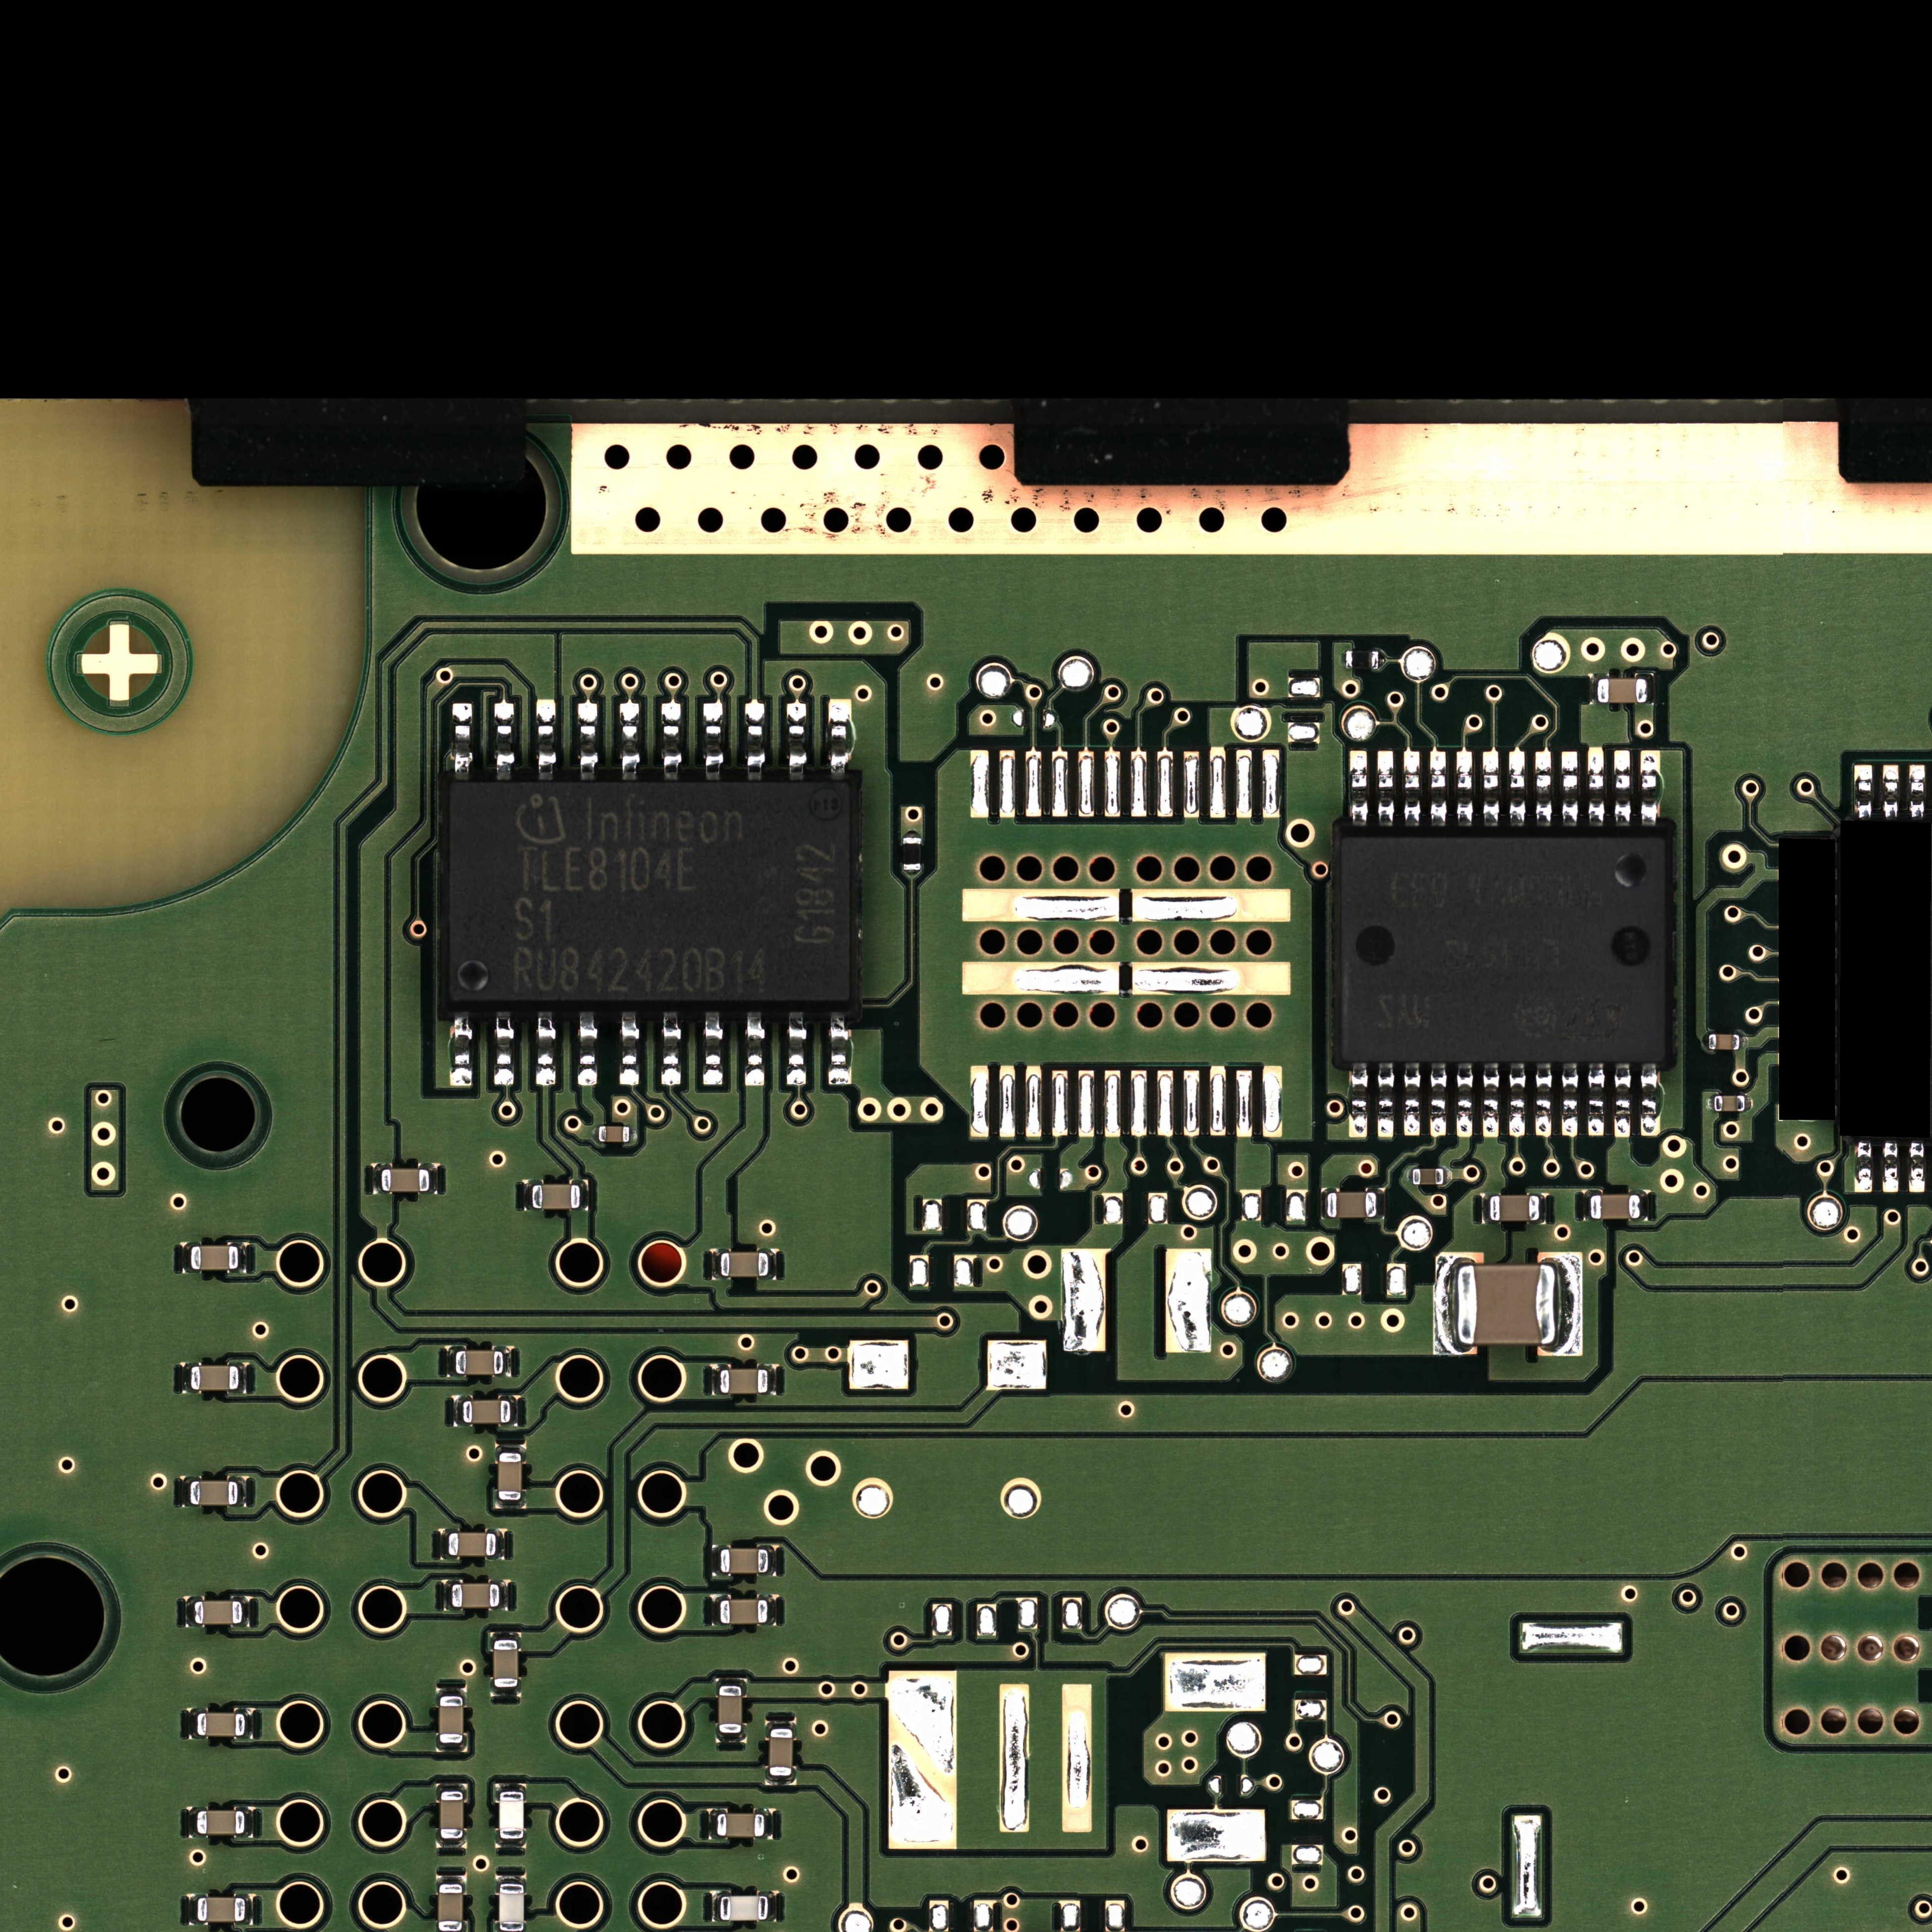Package: (446, 780, 853, 1003), (1341, 837, 1667, 1065), (1456, 1263, 1557, 1346), (196, 1897, 246, 1923), (1598, 678, 1647, 704), (1490, 1194, 1539, 1221), (1327, 1192, 1376, 1219), (533, 1184, 580, 1210), (720, 1548, 768, 1575), (720, 1895, 768, 1921), (455, 1350, 504, 1375), (1591, 1194, 1640, 1219), (717, 1813, 764, 1838), (464, 1399, 511, 1424), (497, 1453, 522, 1500), (451, 1583, 499, 1608), (191, 1366, 239, 1391), (494, 1640, 518, 1688), (448, 1532, 495, 1557), (196, 1713, 244, 1737), (720, 1599, 768, 1624), (720, 1253, 768, 1277), (720, 1369, 768, 1394), (191, 1246, 239, 1270), (196, 1810, 244, 1835), (499, 1792, 524, 1838), (191, 1481, 237, 1506), (439, 1697, 464, 1743), (499, 1884, 524, 1930), (195, 1601, 242, 1624), (770, 1729, 793, 1776), (382, 1169, 430, 1192), (718, 1686, 741, 1734), (441, 1792, 464, 1838), (439, 1884, 462, 1930), (902, 837, 922, 870), (1345, 651, 1378, 669), (1412, 1168, 1444, 1185), (598, 1127, 630, 1143), (1714, 1095, 1744, 1111), (1709, 1033, 1739, 1049)
Solder: (1557, 1254, 1582, 1355), (1435, 1253, 1456, 1355), (828, 699, 853, 780), (828, 1010, 853, 1086), (449, 1010, 472, 1086), (494, 701, 515, 782), (451, 702, 472, 780), (702, 702, 724, 780), (619, 702, 640, 780), (536, 699, 556, 782), (619, 1010, 640, 1086), (494, 1010, 515, 1086), (702, 1010, 724, 1086), (1640, 750, 1661, 826), (579, 701, 598, 780), (787, 701, 807, 780), (745, 701, 764, 780), (662, 702, 681, 780), (745, 1010, 764, 1088), (579, 1008, 598, 1086), (536, 1010, 556, 1086), (662, 1010, 681, 1086), (787, 1010, 807, 1086), (1430, 747, 1447, 828), (1640, 1063, 1660, 1136), (1483, 748, 1500, 828), (1456, 748, 1474, 828), (1587, 748, 1605, 828), (1403, 748, 1421, 826), (1350, 750, 1368, 828), (1376, 1062, 1394, 1139), (1350, 1062, 1368, 1139), (1560, 750, 1578, 828), (1614, 750, 1631, 828), (1430, 1062, 1447, 1139), (1376, 750, 1394, 826), (1614, 1062, 1631, 1138), (1456, 1062, 1474, 1138), (1483, 1062, 1500, 1138), (1587, 1062, 1605, 1138), (1403, 1062, 1421, 1136), (1509, 747, 1525, 828), (1536, 748, 1552, 828), (1536, 1062, 1552, 1138), (1509, 1062, 1525, 1138), (1562, 1062, 1578, 1138), (1854, 764, 1872, 817), (1882, 764, 1898, 819), (1909, 764, 1925, 819), (1856, 1141, 1872, 1192), (1882, 1141, 1898, 1192), (1909, 1143, 1925, 1192), (180, 1242, 191, 1274), (180, 1362, 191, 1394), (435, 1838, 467, 1849), (244, 1806, 255, 1838), (435, 1686, 467, 1697), (184, 1596, 195, 1628), (186, 1808, 196, 1838), (495, 1529, 506, 1559), (453, 1396, 462, 1428), (446, 1346, 455, 1378), (239, 1362, 248, 1394), (239, 1242, 248, 1274), (242, 1596, 251, 1628), (580, 1180, 589, 1212), (524, 1180, 533, 1212), (490, 1631, 522, 1640), (764, 1776, 796, 1785), (490, 1688, 522, 1697), (711, 1891, 720, 1923), (494, 1500, 525, 1509), (764, 1808, 773, 1840), (711, 1545, 720, 1576), (495, 1875, 527, 1884), (372, 1164, 380, 1194), (430, 1164, 439, 1194), (246, 1709, 255, 1739), (442, 1580, 451, 1610), (239, 1477, 248, 1507), (180, 1477, 189, 1507), (188, 1709, 196, 1739), (246, 1895, 255, 1925), (188, 1895, 196, 1925), (437, 1782, 467, 1790), (439, 1529, 448, 1559), (768, 1366, 777, 1396), (768, 1249, 777, 1279), (711, 1249, 720, 1279), (711, 1364, 720, 1394), (495, 1444, 525, 1453), (717, 1734, 747, 1743), (766, 1720, 796, 1729), (495, 1840, 525, 1849), (711, 1596, 720, 1626), (768, 1891, 777, 1921), (708, 1808, 717, 1838), (1376, 1189, 1385, 1219), (1647, 674, 1656, 704), (437, 1875, 467, 1884), (499, 1582, 508, 1610), (435, 1744, 467, 1752), (770, 1545, 777, 1576), (511, 1396, 518, 1426), (504, 1346, 511, 1376), (495, 1783, 525, 1790), (717, 1677, 747, 1684), (768, 1596, 775, 1626), (1591, 674, 1598, 704), (1483, 1194, 1490, 1224), (1583, 1191, 1591, 1221), (1539, 1194, 1546, 1223), (1640, 1192, 1647, 1221), (1322, 1189, 1327, 1219), (1700, 1033, 1709, 1051), (902, 830, 922, 837), (630, 1125, 637, 1145), (1339, 649, 1346, 669), (591, 1125, 598, 1143), (1407, 1168, 1414, 1185), (1444, 1168, 1451, 1185), (1707, 1095, 1714, 1113), (1744, 1095, 1752, 1111), (1380, 651, 1385, 671), (902, 870, 922, 876), (1741, 1033, 1746, 1049)
